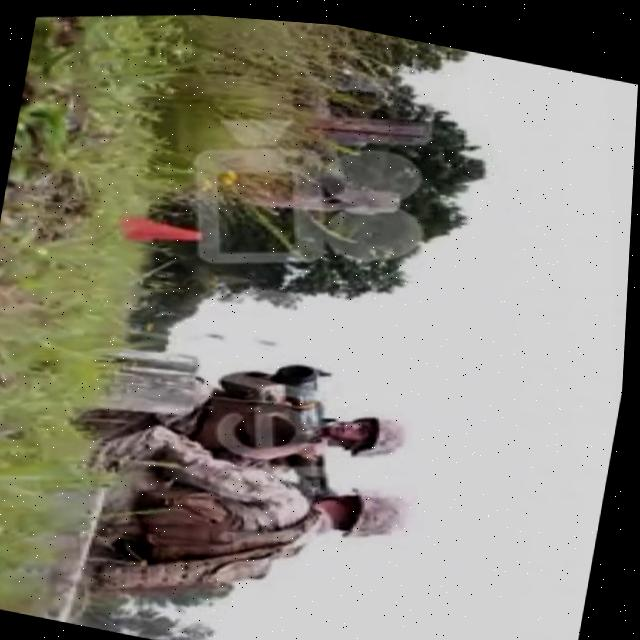rocket: (256, 349, 352, 490)
